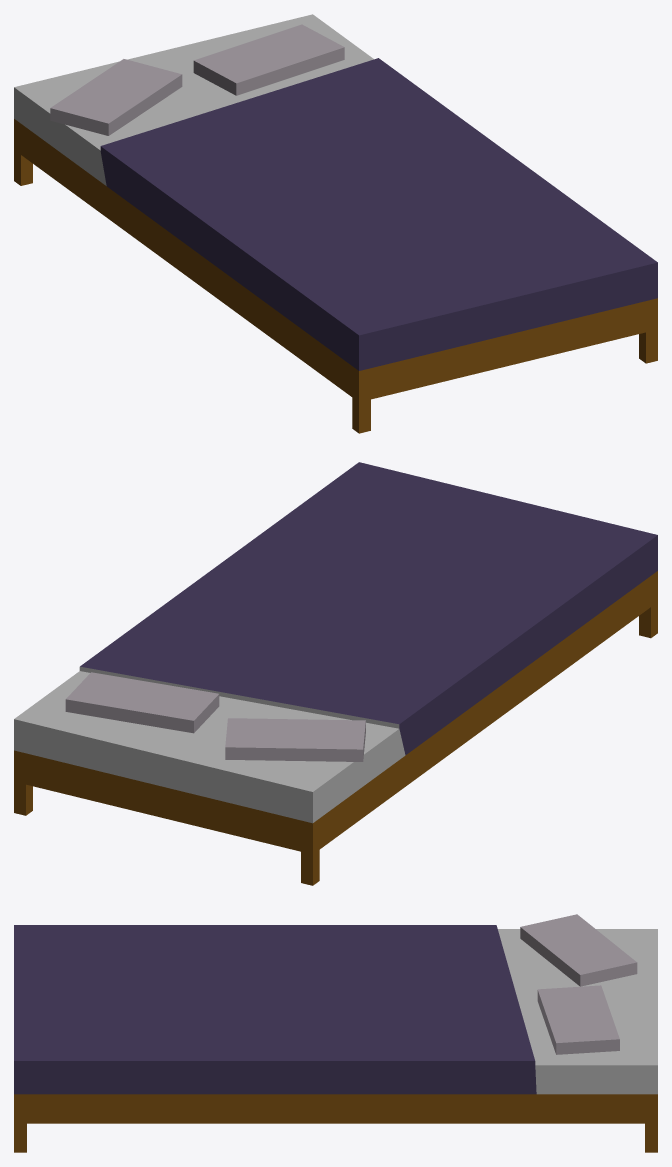
File: Cama.fbx
3 renders of one model, top to bottom at view 1: azimuth 30°, elevation 25°; view 2: azimuth 150°, elevation 25°; view 3: azimuth 270°, elevation 25°, orthographic. The views are drawn at different scales.
Parts seen in each view (by area): view 1: Cama, Travesseiro.002, Travesseiro.001, Pé.004; view 2: Cama, Travesseiro.002, Travesseiro.001; view 3: Cama, Travesseiro.001, Travesseiro.002, Pé.001, Pé.002.
Boxes of the visible parts, <box> form: Cama: <box>14,14,657,402</box>; Travesseiro.002: <box>193,24,344,95</box>; Travesseiro.001: <box>50,59,182,135</box>; Pé.004: <box>352,397,370,433</box>; Cama: <box>14,462,657,854</box>; Travesseiro.002: <box>65,672,219,733</box>; Travesseiro.001: <box>225,718,365,761</box>; Cama: <box>14,925,657,1123</box>; Travesseiro.001: <box>520,914,637,986</box>; Travesseiro.002: <box>537,985,619,1054</box>; Pé.001: <box>14,1123,26,1152</box>; Pé.002: <box>645,1123,657,1152</box>.
Bounding box in the file's own units: 102 × 34 × 200.
